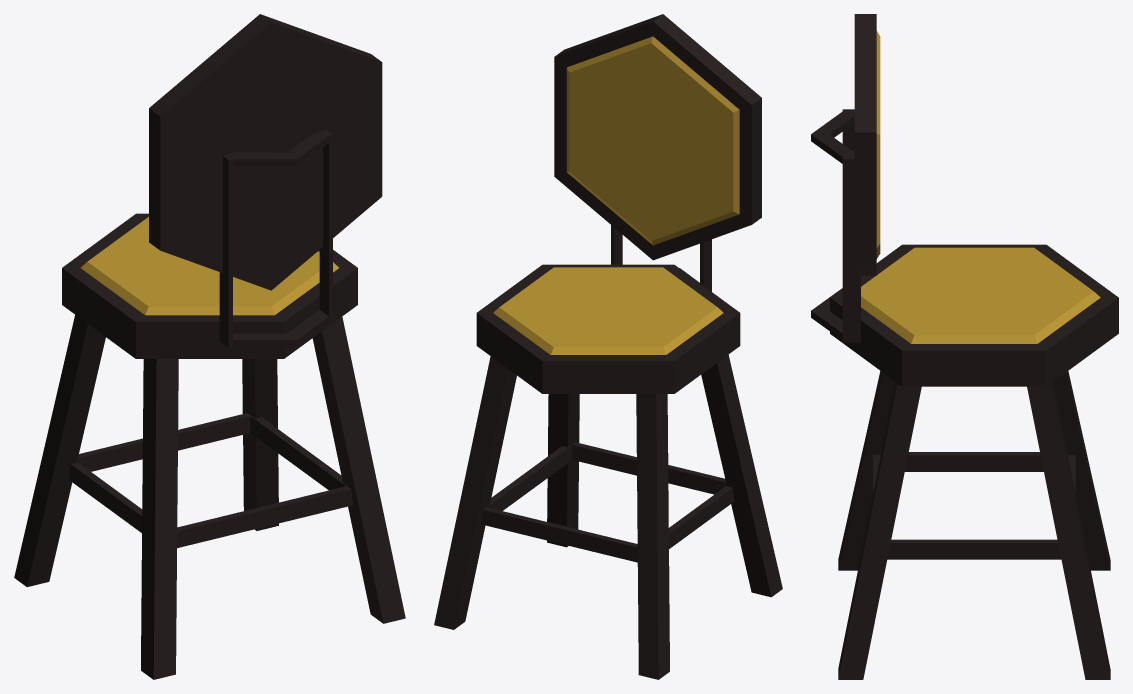
Rendered from Chair.fbx.
3 views of the same model, side by side, from view 1: azimuth 30°, elevation 25°; view 2: azimuth 150°, elevation 25°; view 3: azimuth 270°, elevation 25° (orthographic). The views are drawn at different scales.
Parts seen in each view (by area): view 1: Cylinder.002, Cube.018, Cylinder.001, Cube.019, Cube.020; view 2: Cylinder.002, Cube.018, Cylinder.001, Cube.019, Cube.020; view 3: Cylinder.001, Cube.018, Cylinder.002, Cube.019, Cube.020.
Boxes of the visible parts, box(x1,y1,x2,y2) form: Cylinder.002: box(149, 14, 382, 290); Cube.018: box(14, 315, 405, 679); Cylinder.001: box(62, 213, 357, 358); Cube.019: box(68, 413, 352, 548); Cube.020: box(219, 130, 332, 347); Cylinder.002: box(554, 14, 761, 260); Cube.018: box(434, 354, 782, 679); Cylinder.001: box(476, 264, 740, 393); Cube.019: box(481, 442, 734, 562); Cube.020: box(611, 225, 711, 291); Cylinder.001: box(830, 244, 1118, 386); Cube.018: box(838, 371, 1110, 679); Cylinder.002: box(854, 14, 880, 275); Cube.019: box(873, 452, 1075, 559); Cube.020: box(811, 109, 860, 342).
Size of the model in its own units: 197 by 463 by 213.
